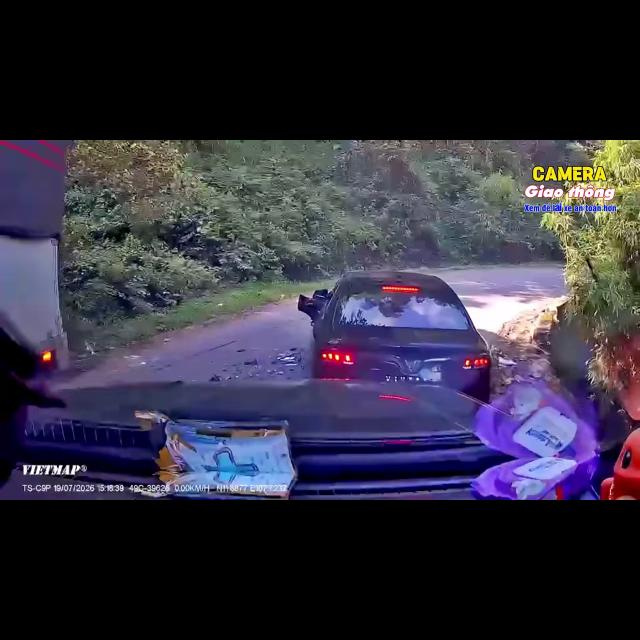car: (298, 271, 491, 403)
truck: (1, 140, 74, 384)
